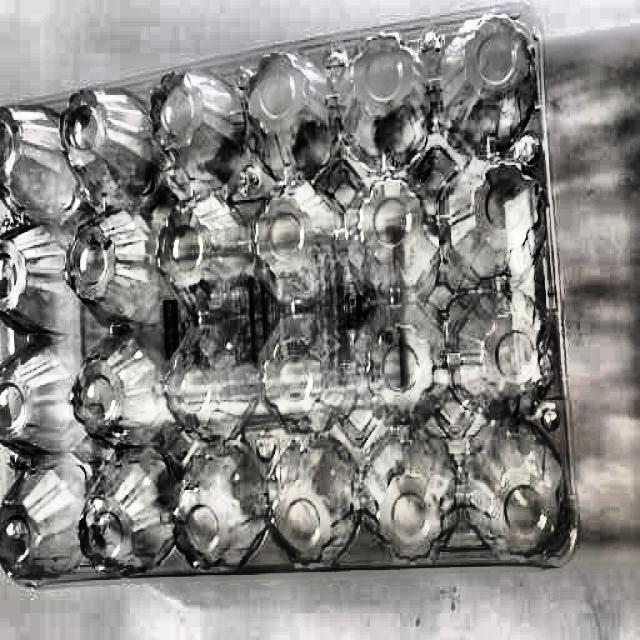plastic: (0, 37, 575, 573)
